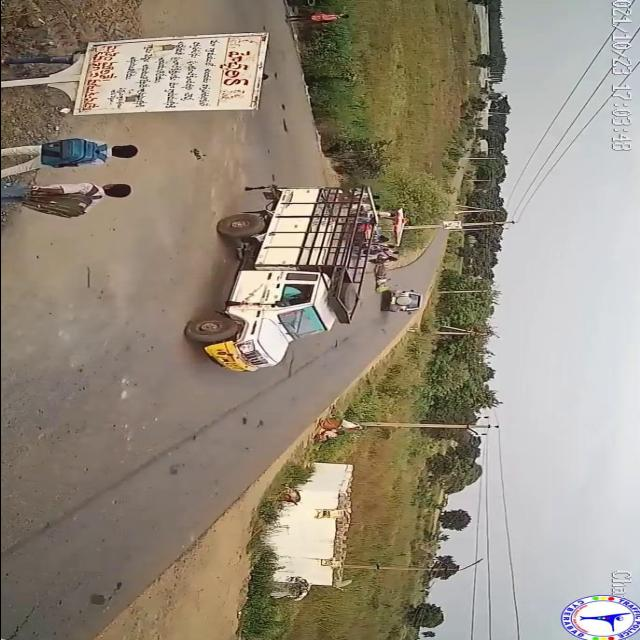accident: (364, 260, 424, 316)
